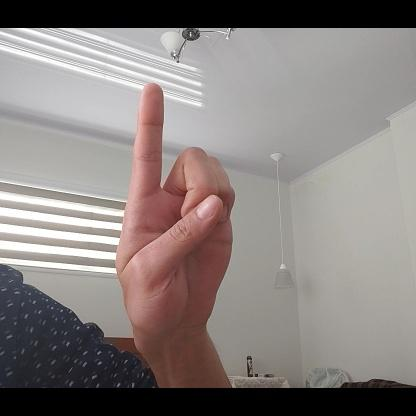D: (117, 81, 238, 337)
